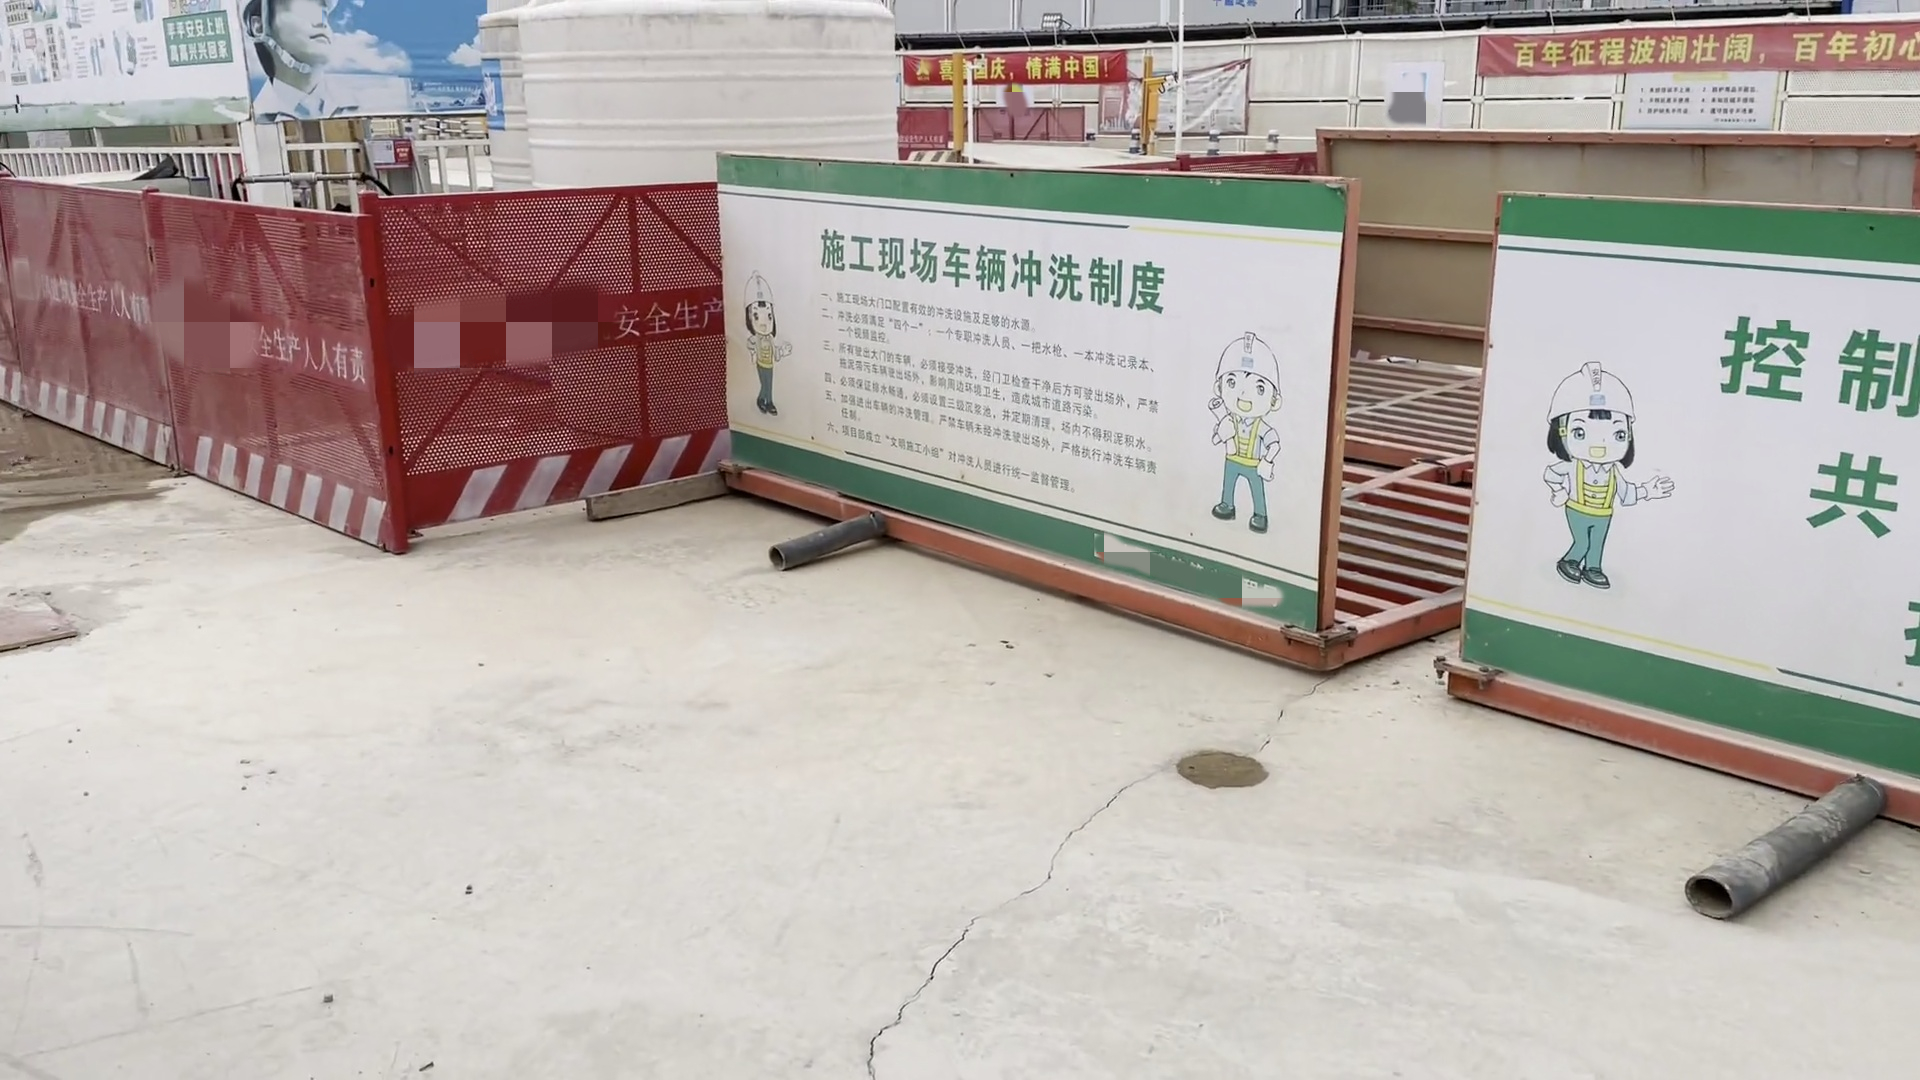slogan: (1520, 207, 1920, 716), (781, 204, 1323, 529), (1491, 32, 1920, 80), (237, 316, 371, 385), (580, 291, 732, 342), (914, 51, 1124, 87), (37, 276, 157, 331), (167, 15, 233, 61)
